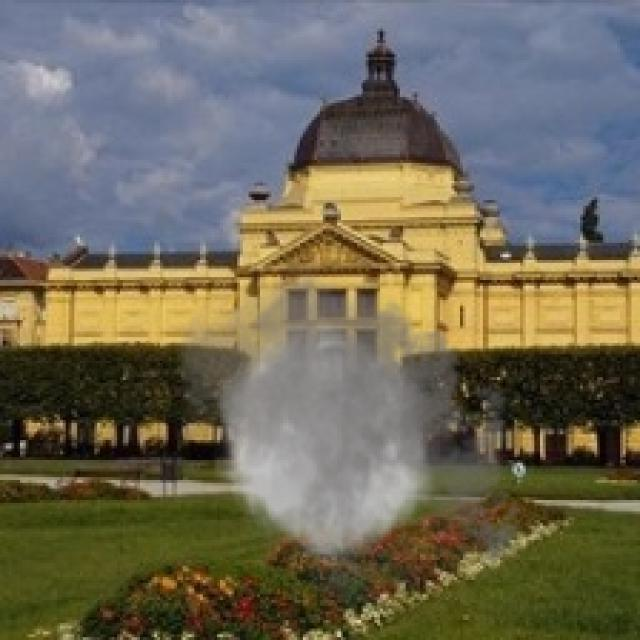Smoke: (163, 251, 532, 626)
